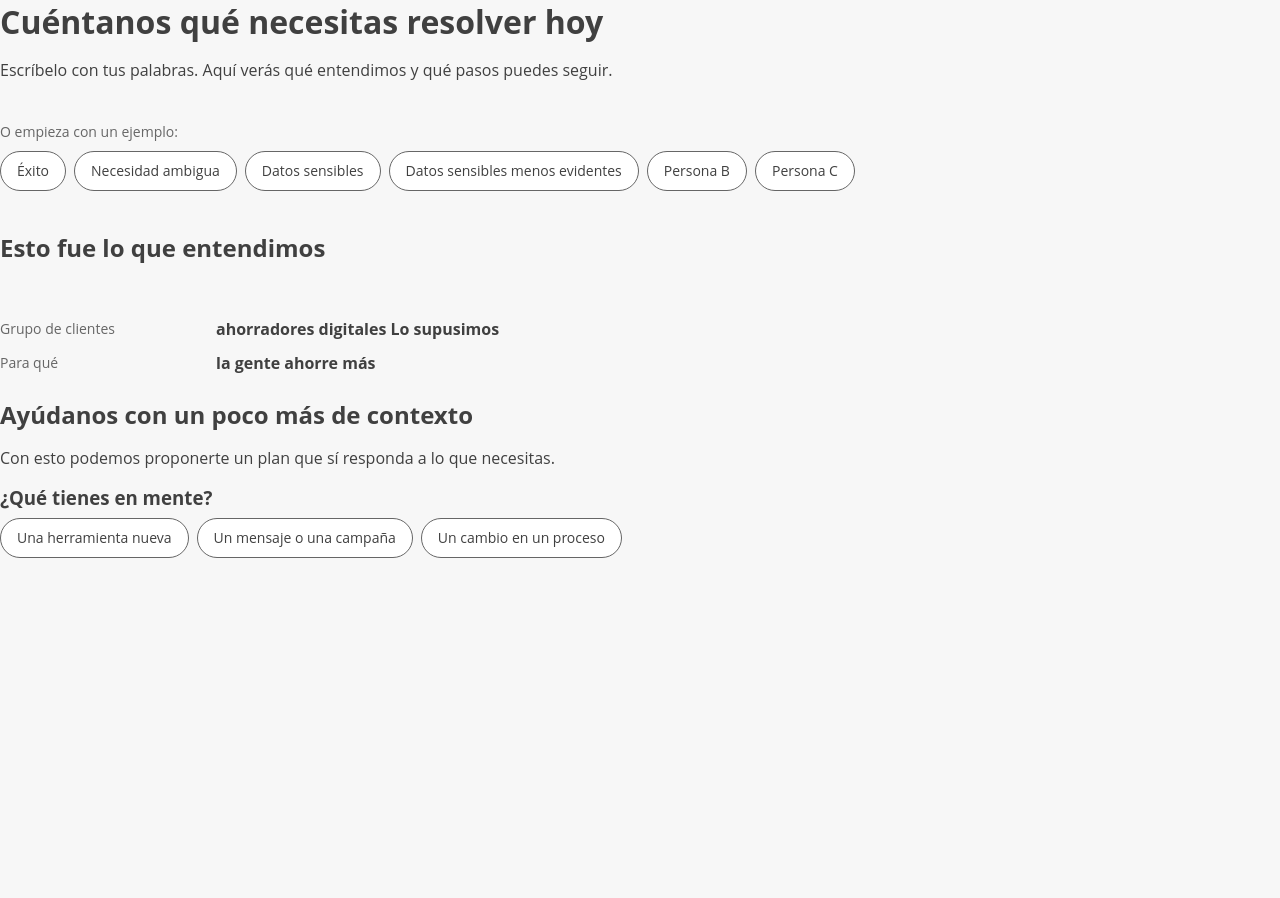
BriefView: an ambiguous need › proposes the plan once every question is answered
Expected: the heading "Esto fue lo que entendimos" is shown, top-left (0, 231), bottom-right (325, 264)
Click the button "Una herramienta nueva" at (94, 538), box top-left (0, 518), bottom-right (188, 558)
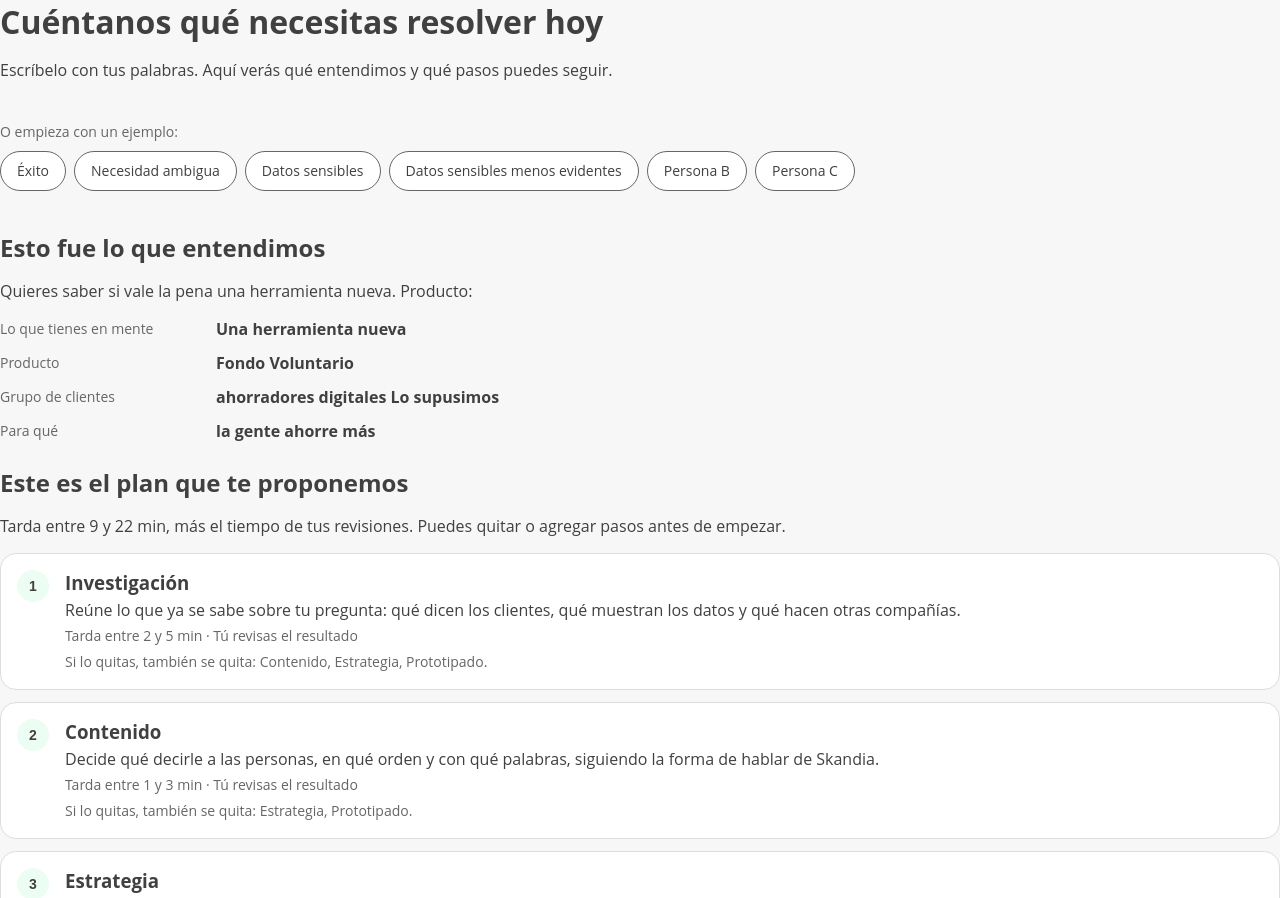
Expected: the heading "Este es el plan que te proponemos" is shown, top-left (0, 466), bottom-right (408, 499)
Expected: the heading "un poco más de contexto" is gone
